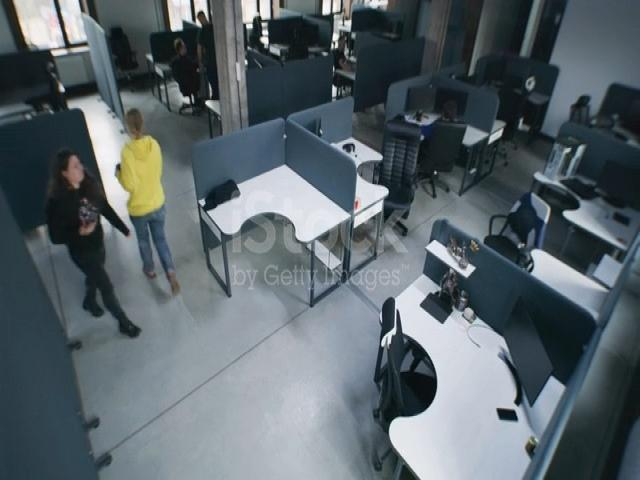empty chair: (362, 288, 432, 470), (371, 103, 422, 240), (486, 186, 562, 264), (102, 19, 148, 94), (489, 76, 526, 164), (562, 81, 610, 143), (40, 56, 69, 115)
occupiedchair: (424, 92, 466, 192), (167, 27, 208, 125), (318, 15, 357, 106)
